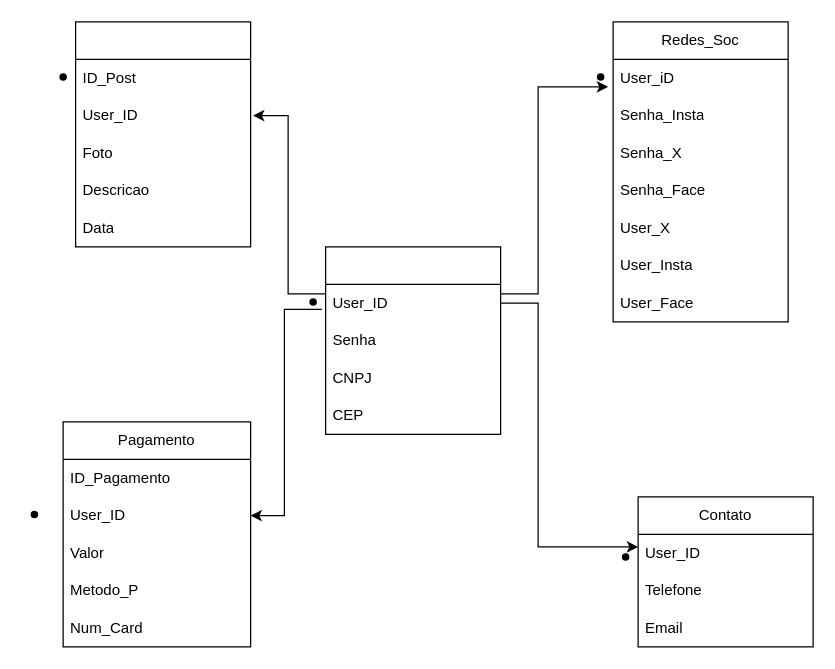
Some shapes in this 835 by 669 pixel diagram are drawn without their labels. Each missing label, with the box of its shape:
Cadastro: (324, 246, 501, 434)
Postagem: (74, 21, 251, 247)
